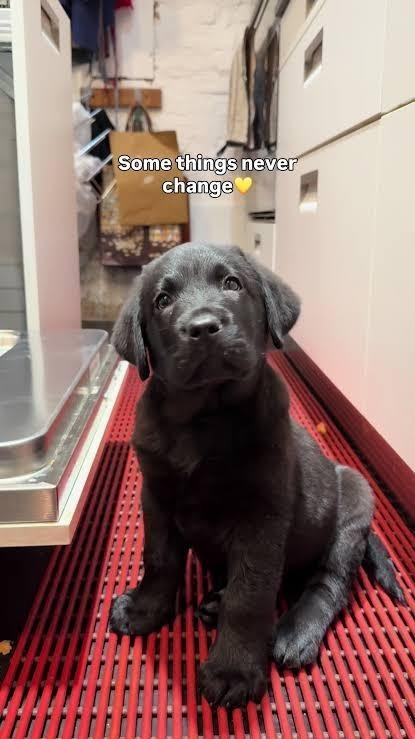puppy-dog: (103, 243, 407, 712)
